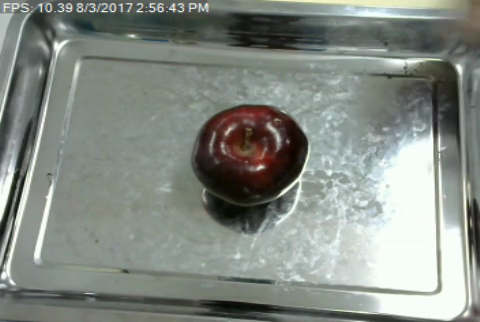Apple: (185, 100, 313, 211)
